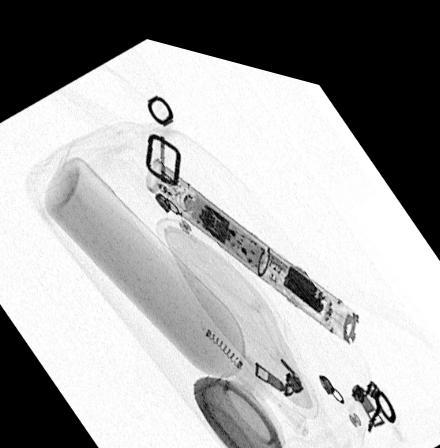Baton: (143, 146, 361, 329)
